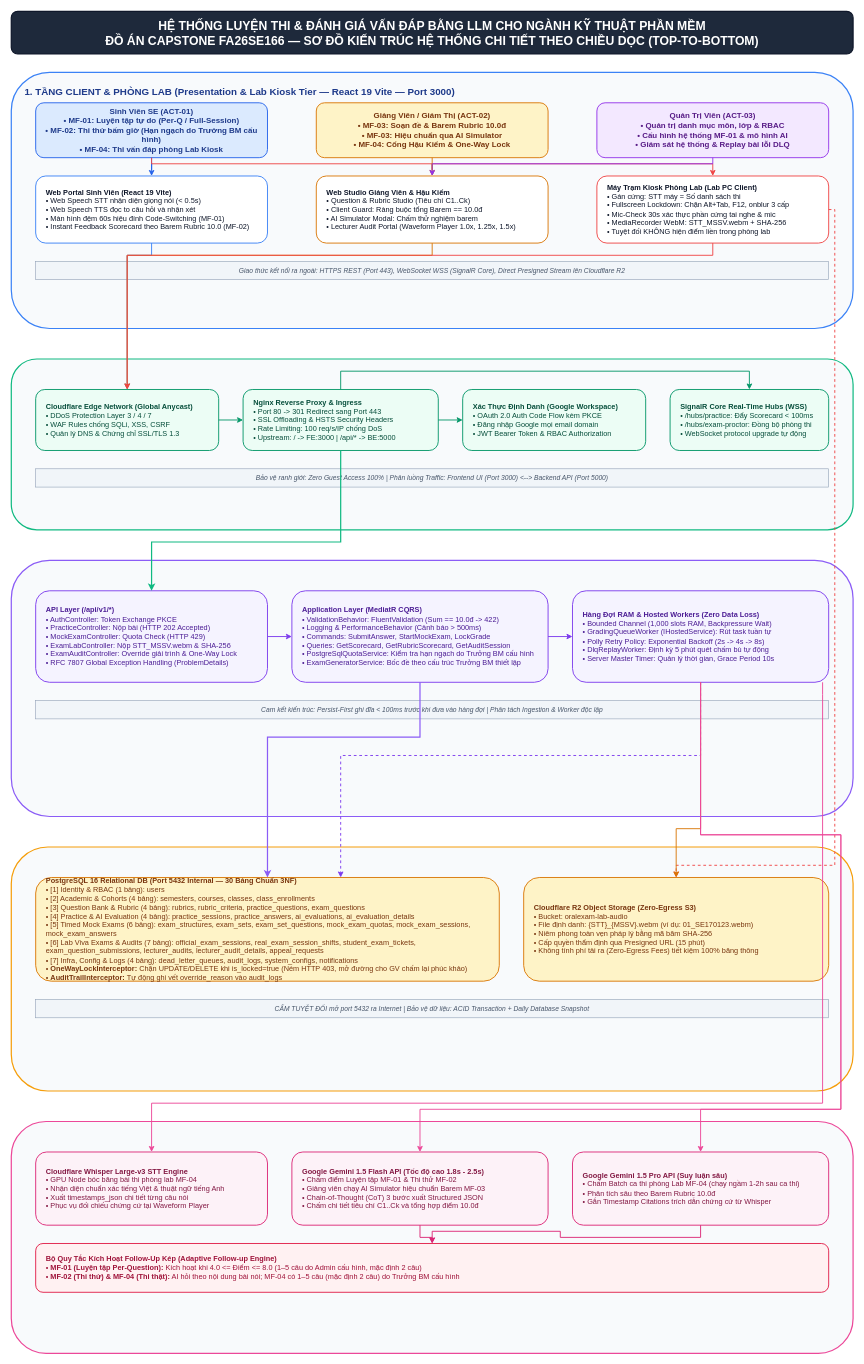
The diagram is 864 pixels wide and 1364 high, and some of its shapes have lost their labels. Here are the shapes that lost their labels. From the top down, the box of each, then its label:
(10, 358, 853, 530): 2. CỔNG KẾT NỐI, ĐỊNH TUYẾN & BẢO MẬT (Ingress Gateway & Auth Tier)
(10, 559, 853, 817): 3. LÕI BACKEND (.NET 8 CLEAN ARCHITECTURE — Port 5000 Kestrel Web Server)
(10, 846, 853, 1091): 4. TẦNG DỮ LIỆU & LƯU TRỮ (Data Persistence & Cloud Storage Tier)
(10, 1121, 853, 1354): 5. CỤM AI & VOICE SERVICES (External AI & Machine Learning Cluster)
